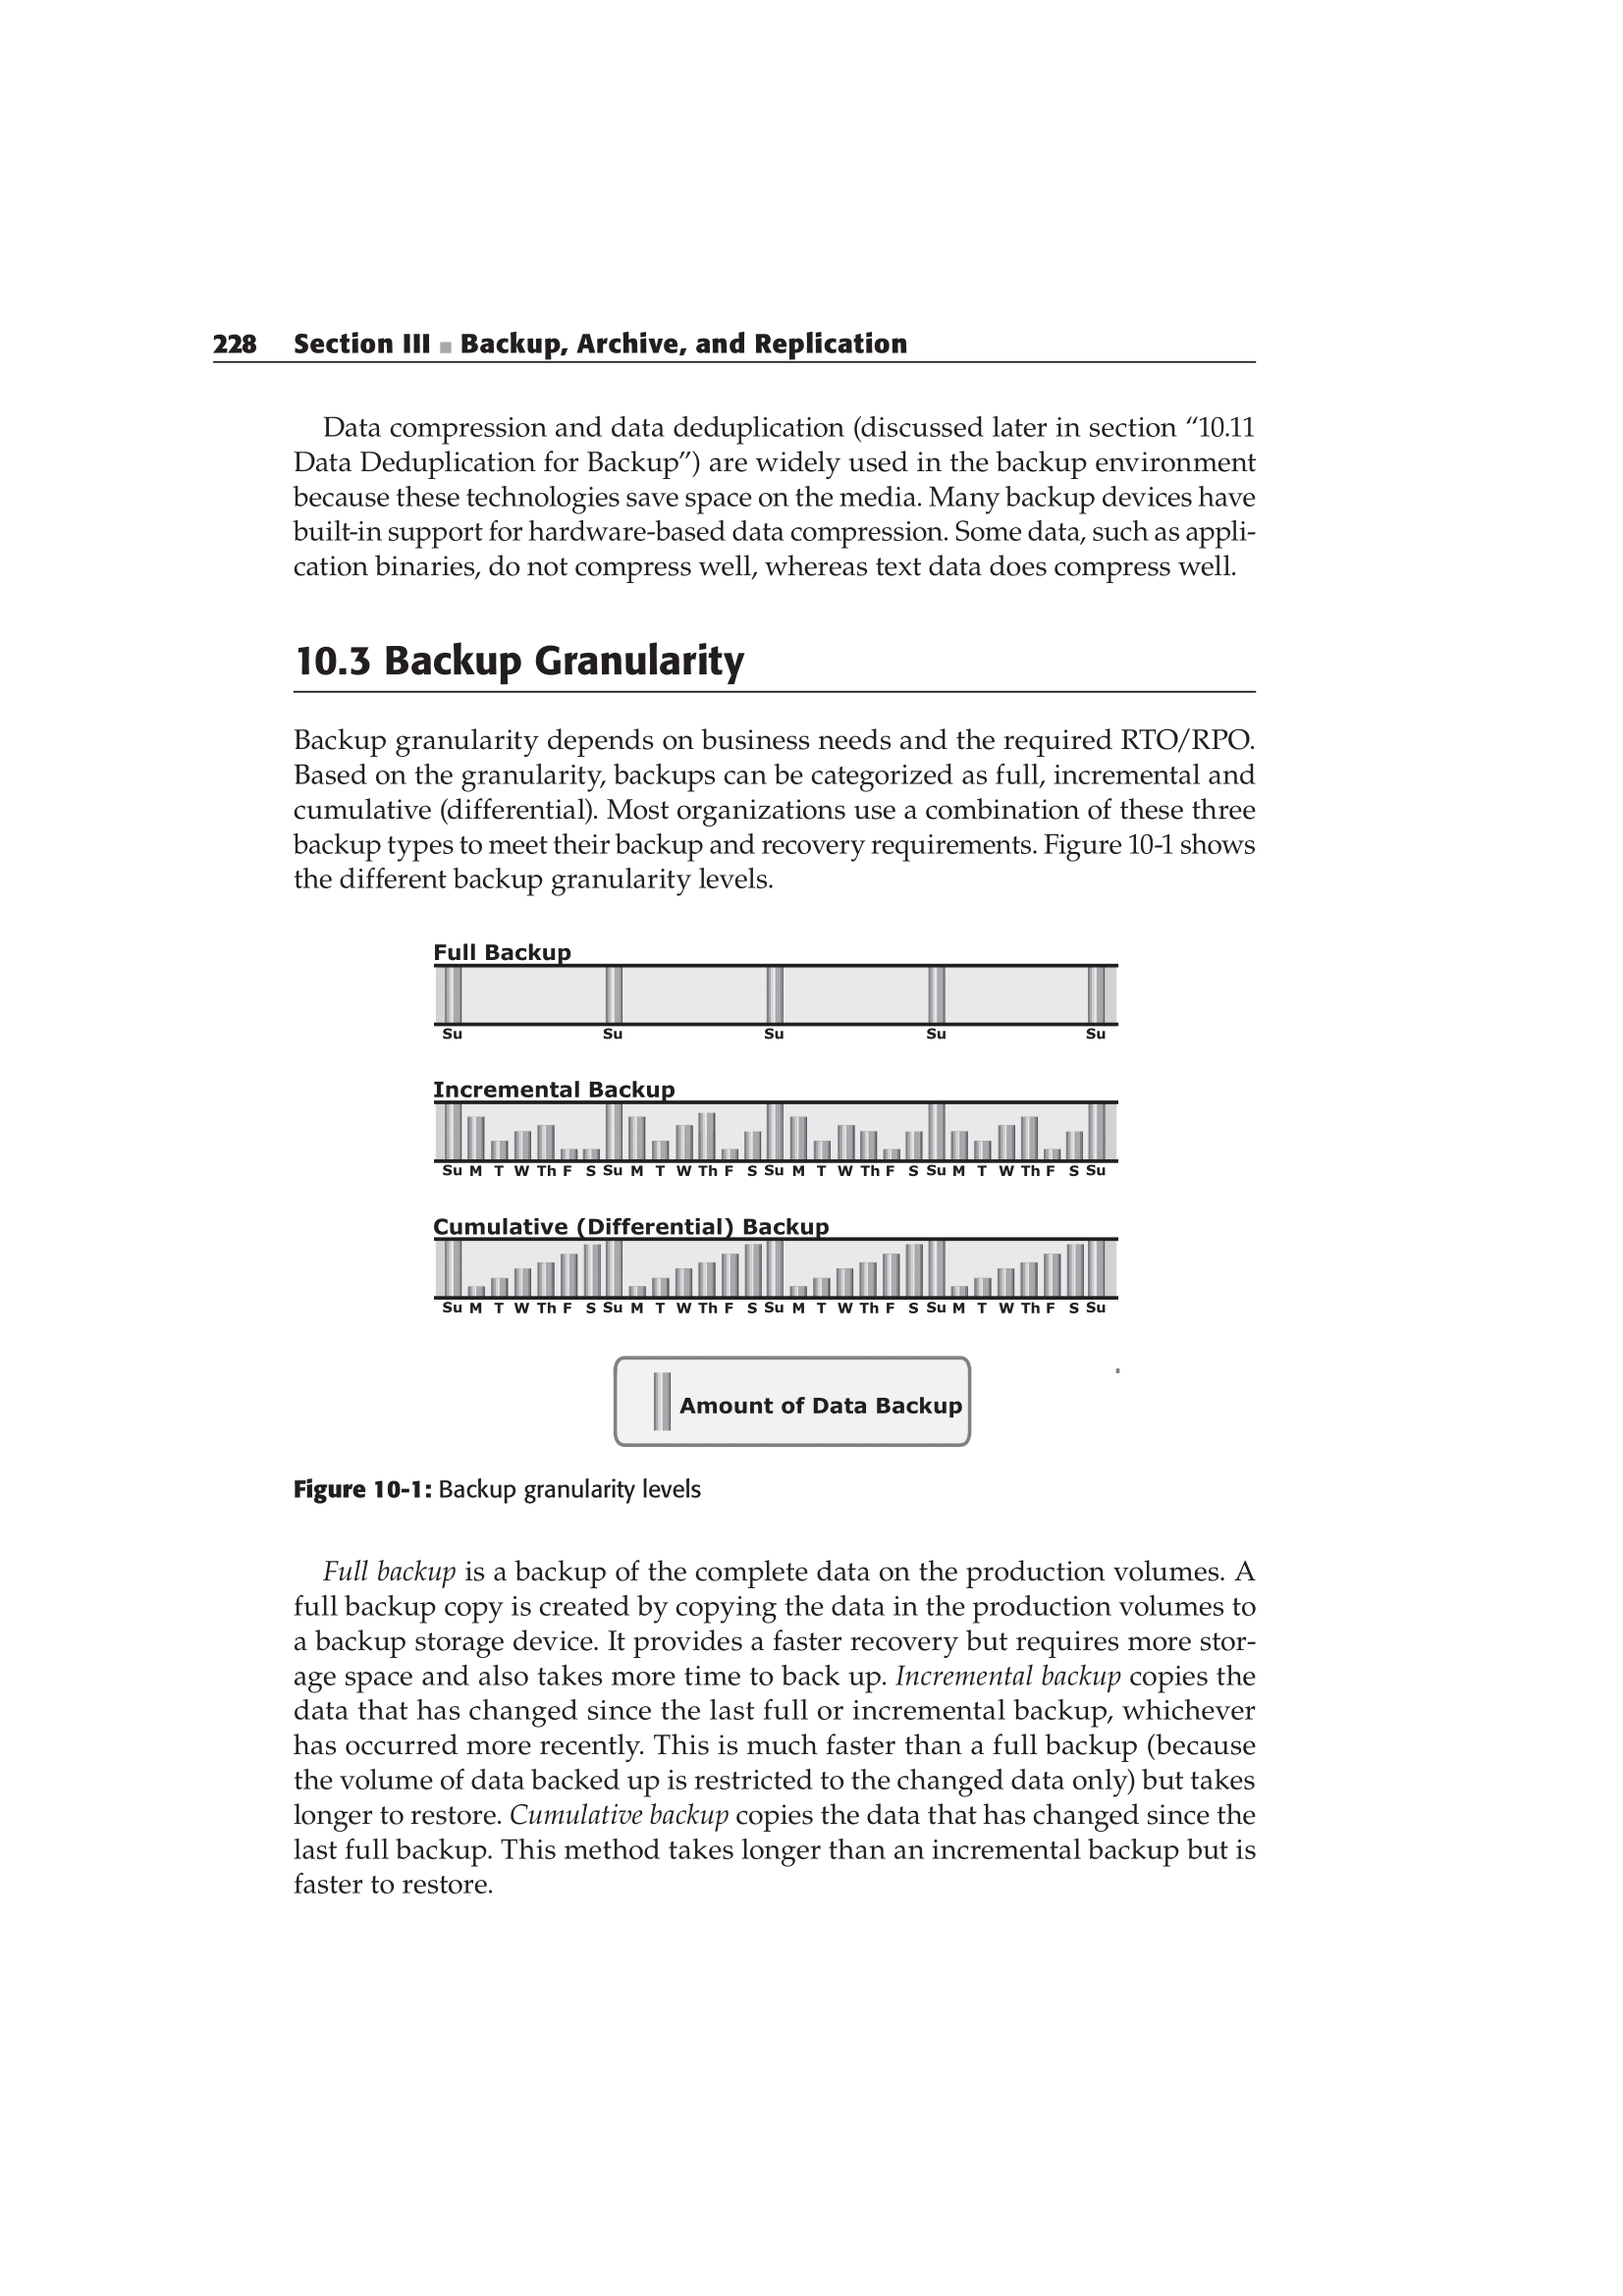Image: (393, 944, 1179, 1343), (648, 1366, 982, 1452)
Paragraph: (260, 1520, 1282, 1894), (279, 393, 1273, 599), (265, 730, 1282, 895), (188, 288, 927, 360), (265, 607, 734, 693), (274, 1469, 711, 1520)
